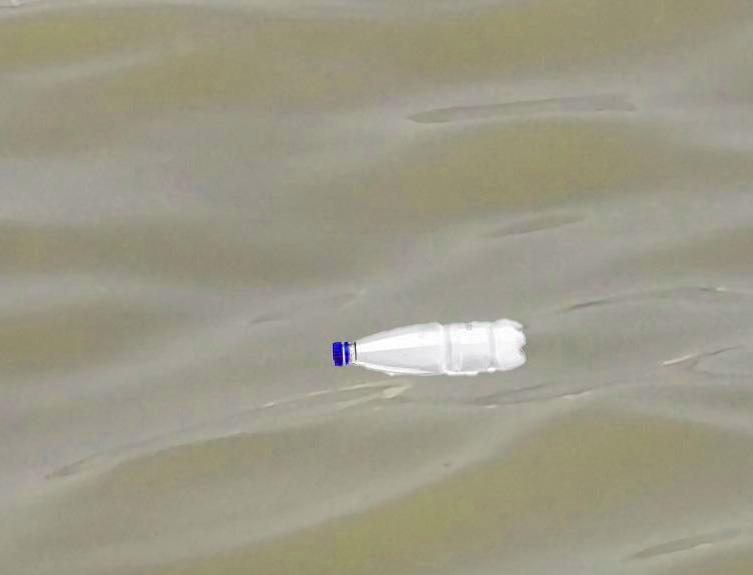Plastic: (330, 317, 526, 379)
